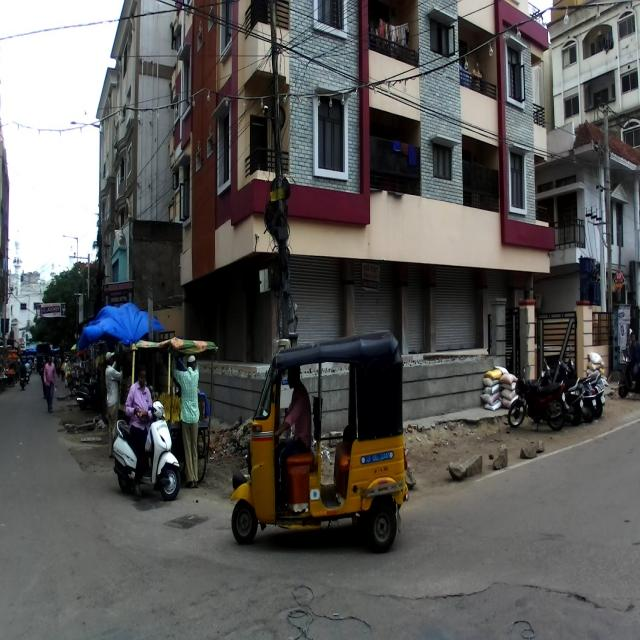autorickshaw: (228, 328, 411, 547)
motorcycle_Hero: (507, 362, 568, 433)
scooter: (110, 399, 181, 501), (566, 343, 606, 418), (556, 358, 598, 422)
